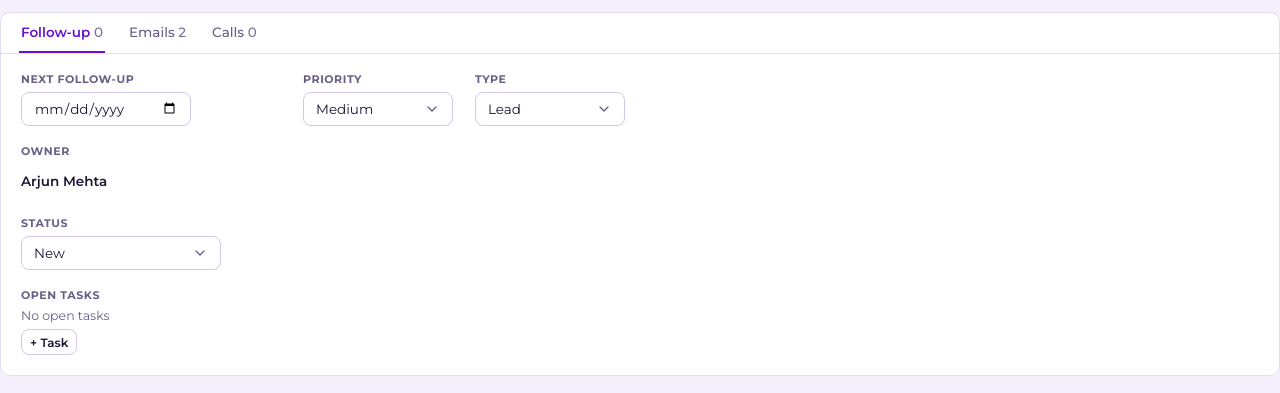
Scenario: FollowUpPanel › Emails tab marks another user's mail with their mailbox (web-mail release 1, team view)
Click the tab "Emails 2": (158, 33) [127,13,188,53]
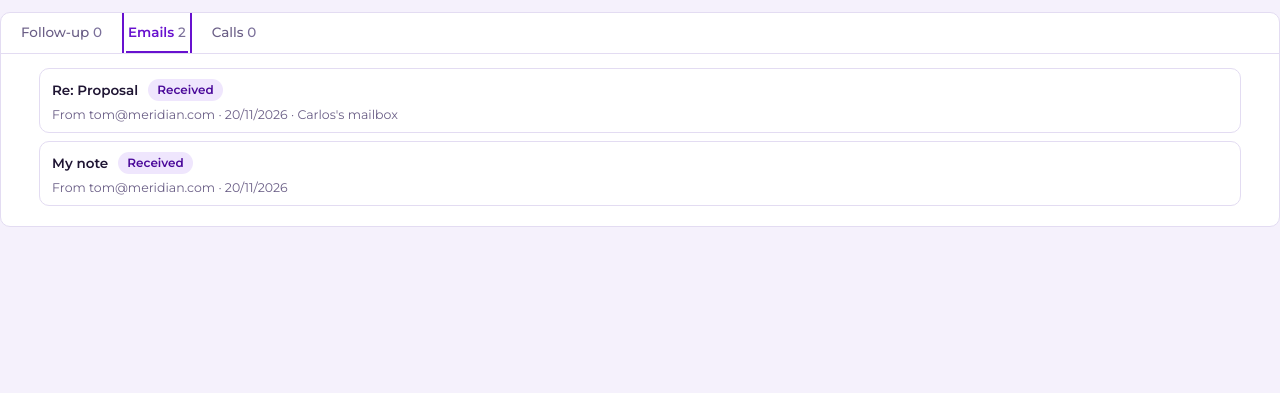
Expected: the list item "My note Received From tom@meridian.com · 20/11/2026" does not show "mailbox", [39,141,1241,206]
Now the list item that starts with "Re: Proposal" shows "Carlos's mailbox", box [288,107,398,122]
